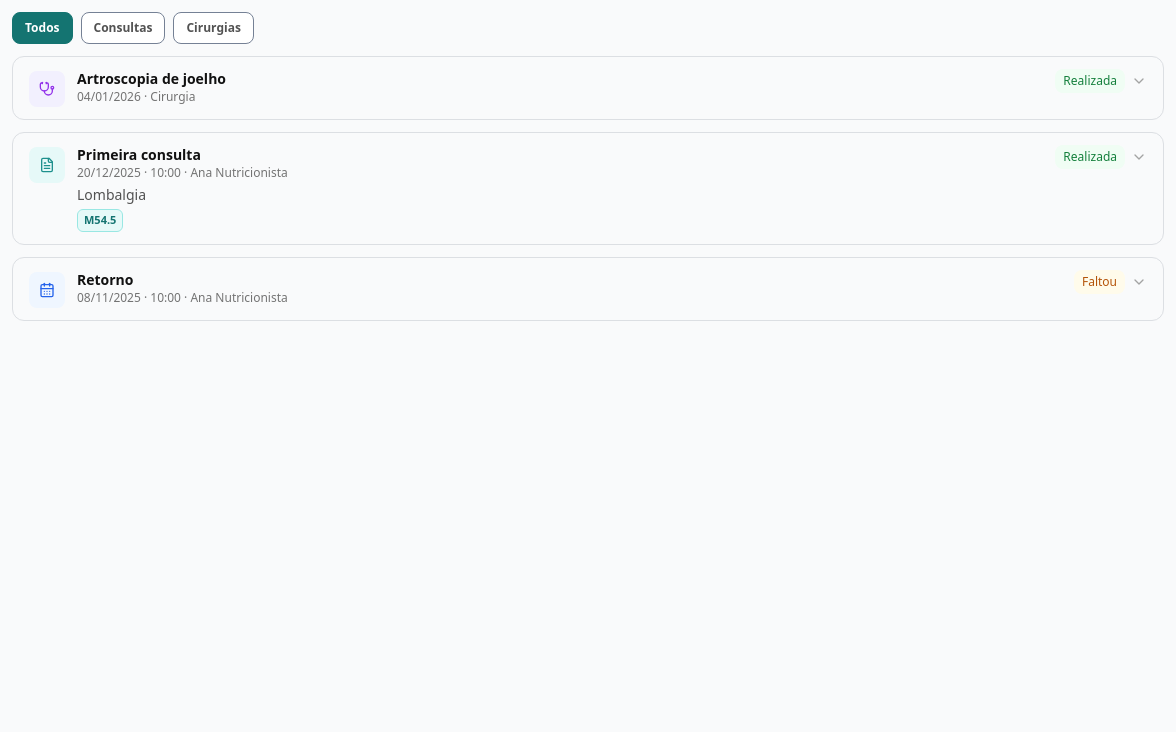
Test: PatientHistoryTab › expande a consulta e mostra as anotações do médico
Click the button "Primeira consulta": point(47, 165) [13,133,1163,244]
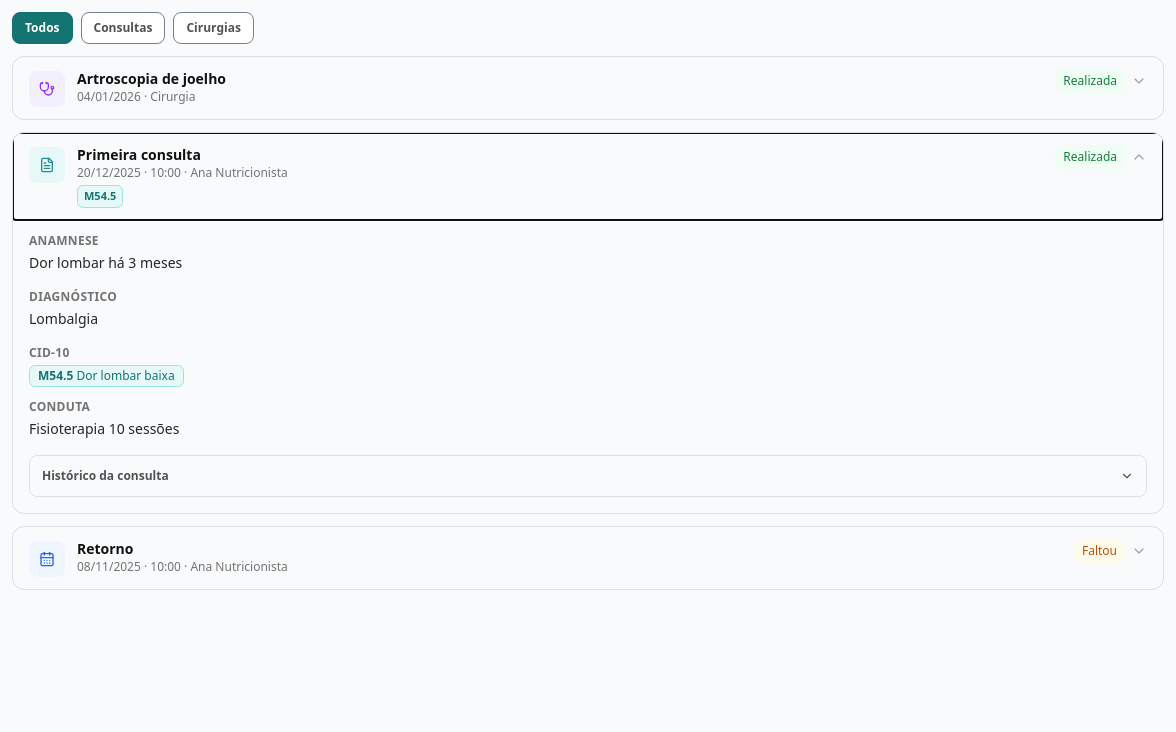
Result: the text "Dor lombar há 3 meses" is shown at [29,252,182,272]
Result: the text "Fisioterapia 10 sessões" is shown at [29,418,179,438]
Result: the text "M54.5 Dor lombar baixa" is shown at [29,364,184,386]
